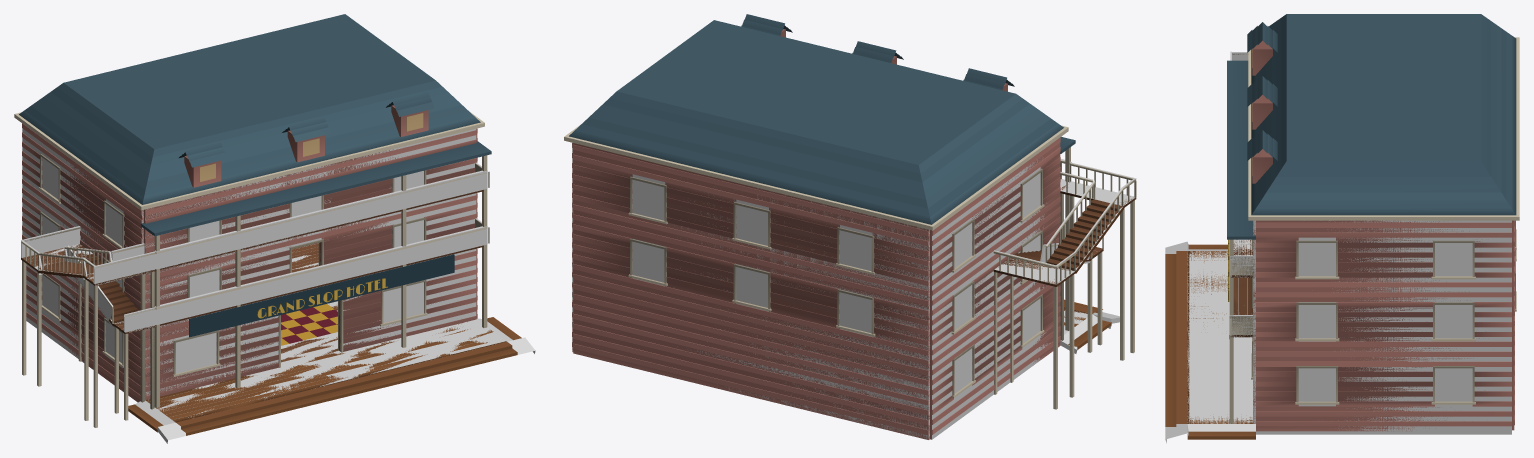
Rendered from hotel.glb.
The picture shows the model from 3 angles, left to right: view 1: azimuth 30°, elevation 25°; view 2: azimuth 150°, elevation 25°; view 3: azimuth 270°, elevation 25°; orthographic projection. The views are drawn at different scales.
Visible parts, largest first — view 1: hotel, COL_1, COL_6, COL_26, COL_23, COL_9, COL_42, COL_39, COL_37, COL_0, COL_4, COL_43 (+1 smaller); view 2: hotel, COL_8, COL_9, COL_30, COL_32; view 3: hotel, COL_7, COL_42, COL_0, COL_6, COL_45, COL_43, COL_27.
Part boxes in pixels (bbox=[...]): hotel: bbox=[14, 14, 521, 435]; COL_1: bbox=[145, 176, 280, 395]; COL_6: bbox=[341, 129, 476, 345]; COL_26: bbox=[155, 170, 487, 269]; COL_23: bbox=[155, 226, 487, 324]; COL_9: bbox=[22, 128, 143, 367]; COL_42: bbox=[148, 319, 506, 418]; COL_39: bbox=[93, 251, 156, 283]; COL_37: bbox=[21, 226, 80, 257]; COL_0: bbox=[281, 301, 339, 365]; COL_4: bbox=[291, 166, 321, 246]; COL_43: bbox=[157, 337, 535, 443]; hotel: bbox=[564, 14, 1136, 439]; COL_8: bbox=[632, 174, 929, 439]; COL_9: bbox=[932, 159, 1050, 439]; COL_30: bbox=[994, 258, 1074, 284]; COL_32: bbox=[1060, 181, 1134, 205]; hotel: bbox=[1165, 14, 1519, 439]; COL_7: bbox=[1298, 220, 1511, 431]; COL_42: bbox=[1187, 251, 1252, 423]; COL_0: bbox=[1256, 431, 1511, 434]; COL_6: bbox=[1253, 220, 1255, 423]; COL_45: bbox=[1187, 424, 1255, 431]; COL_43: bbox=[1165, 241, 1188, 443]; COL_27: bbox=[1231, 255, 1253, 275].
Size of the model in its own units: 29.75 by 17 by 20.75.
